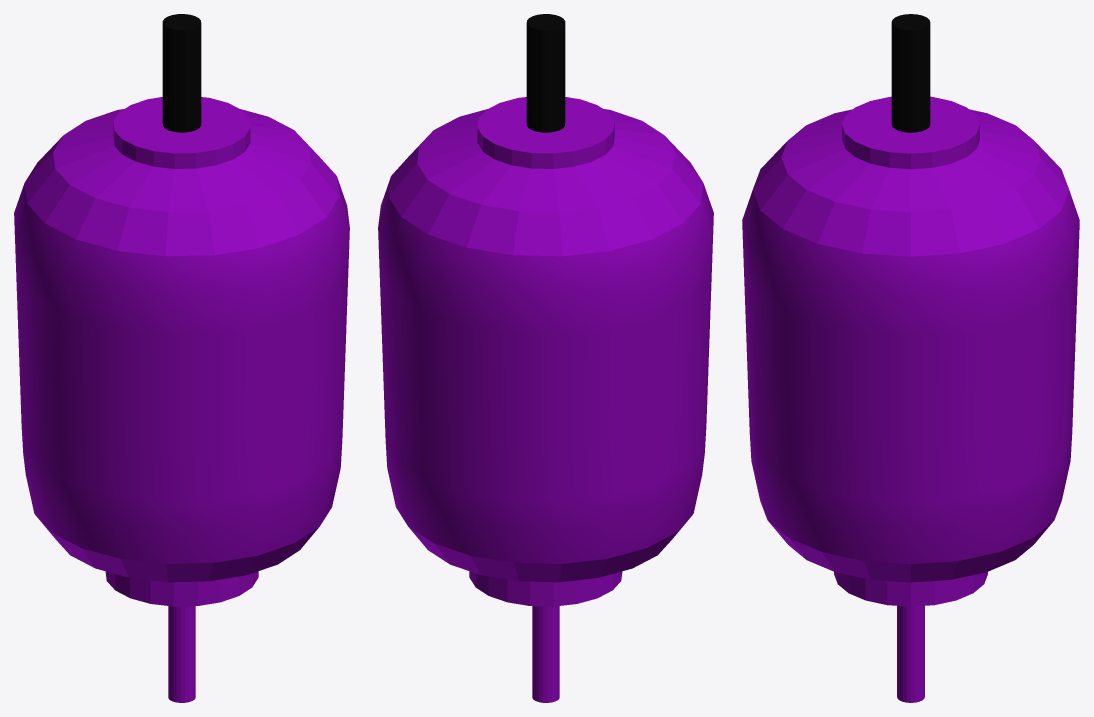
Rendered from Big_Lantern.fbx.
The picture shows the model from 3 angles, left to right: view 1: azimuth 30°, elevation 25°; view 2: azimuth 150°, elevation 25°; view 3: azimuth 270°, elevation 25°; orthographic projection.
Visible parts, largest first — view 1: Big_Lantern; view 2: Big_Lantern; view 3: Big_Lantern.
Part boxes in pixels (x1,y1,x2,y2): Big_Lantern: [14, 14, 349, 702]; Big_Lantern: [378, 14, 713, 702]; Big_Lantern: [742, 14, 1079, 702].
Bounding box in the file's own units: 0.4656 × 1.03 × 0.4656.
